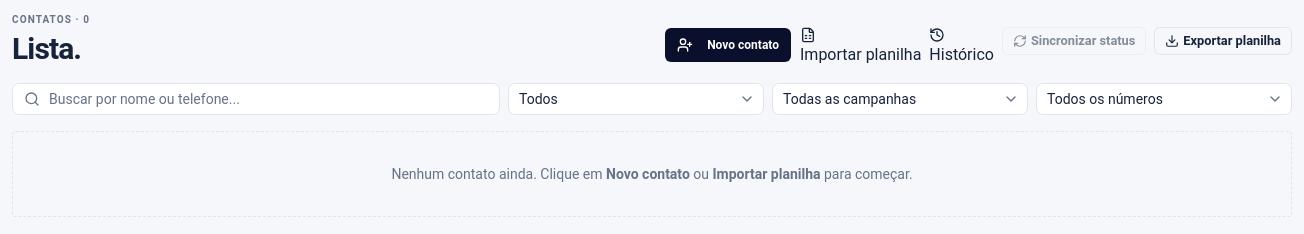
Scenario: ContactsPage — filtro de validação (B.3) › o <select> "Validação" existe e oferece as três classes + Todos
This screenshot has width=1304, height=234.
What coordinates should you click on to do the following:
click the dropdown named "Validação"
I would click on:
 (1164, 99)
Its box is x1=1036 y1=83 x2=1292 y2=115.
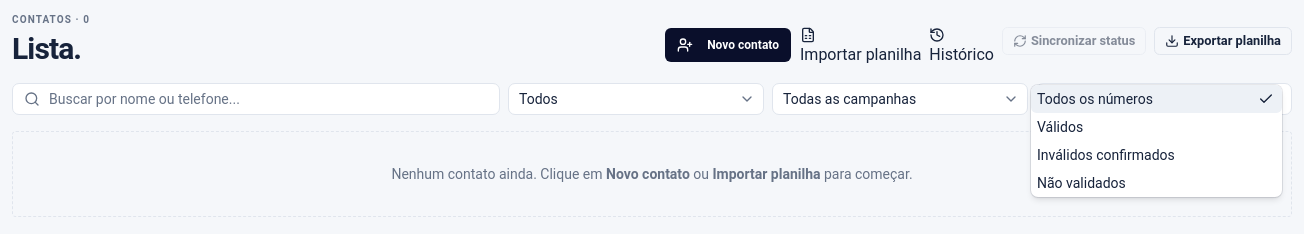
Check: the option "Todos os números" is shown, box x1=1031 y1=85 x2=1282 y2=113
Check: the option "Válidos" is shown, box x1=1037 y1=119 x2=1083 y2=135
Check: the option "Inválidos confirmados" is shown, box x1=1037 y1=147 x2=1175 y2=163
